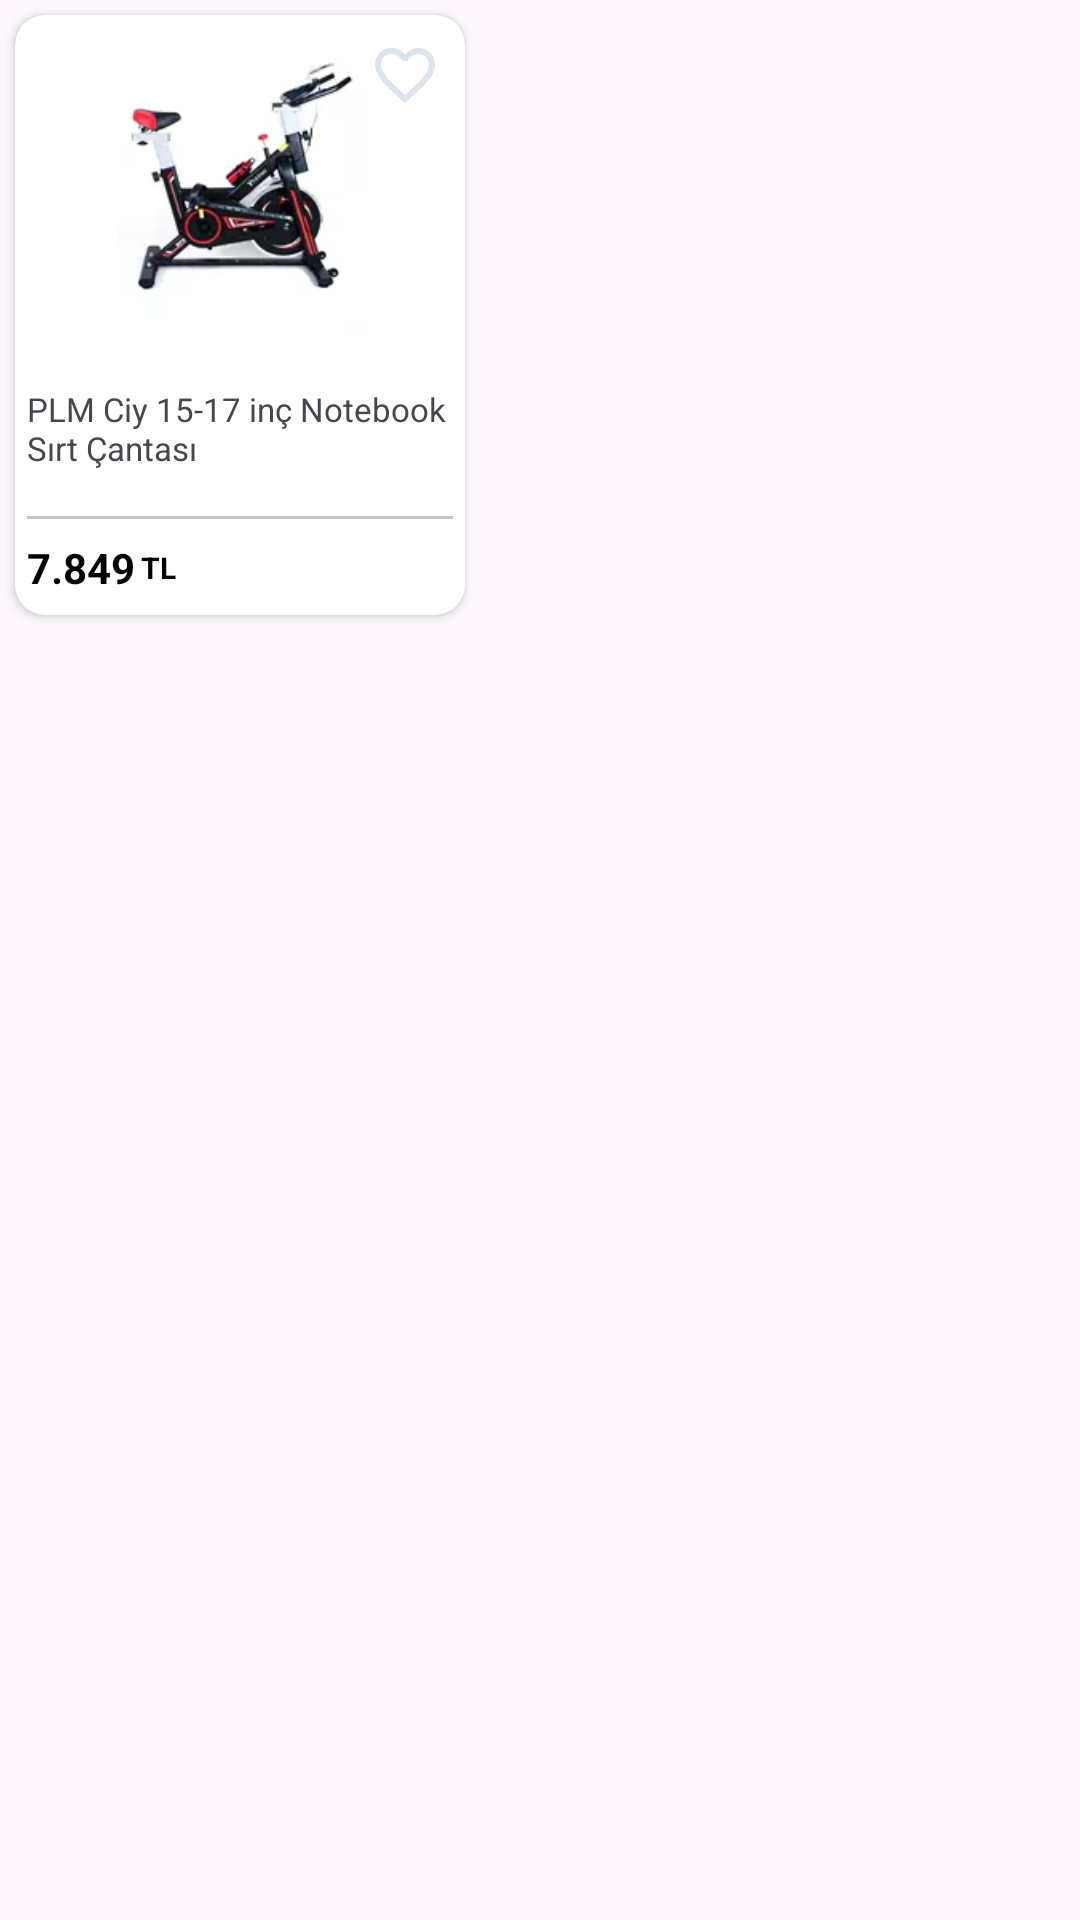

Icons on this 1080px x 1920px Android screen, each with the point to tap as (x=x, y=y):
fav resim: (x=405, y=75)
